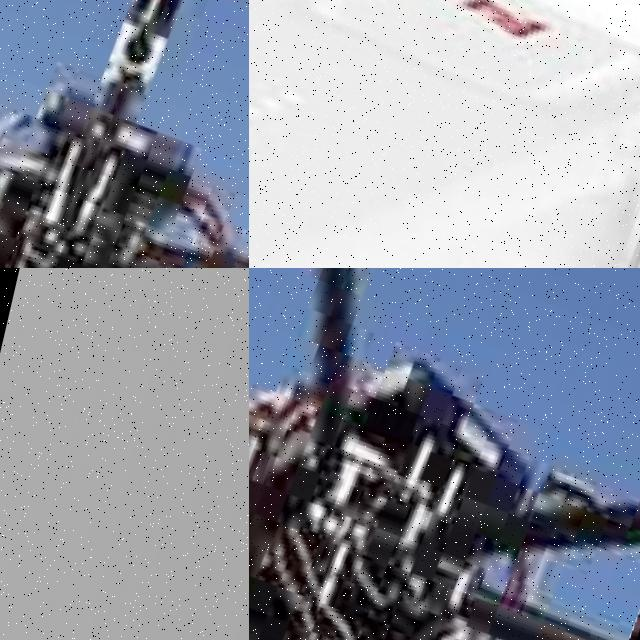drone: (249, 268, 640, 640), (249, 0, 640, 268), (0, 0, 249, 268)
